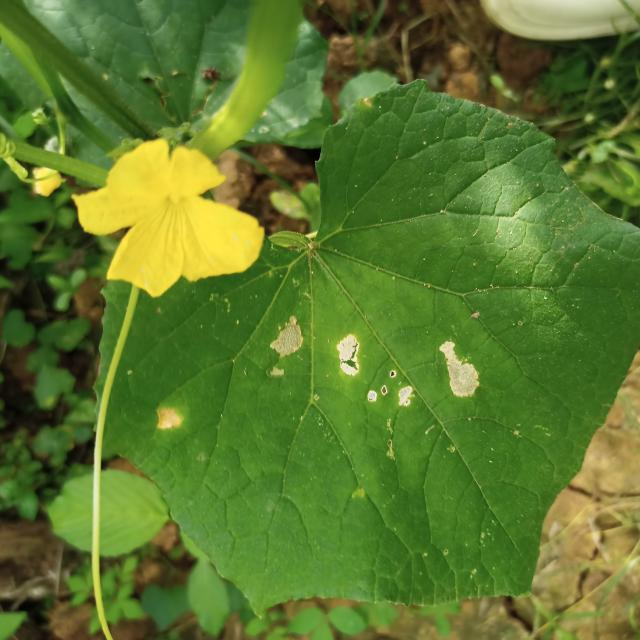disease_cucumber: (263, 316, 485, 408), (155, 408, 183, 434)
